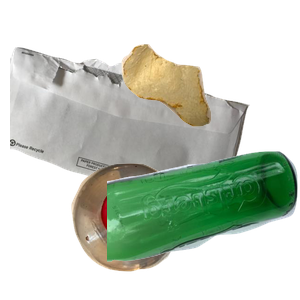glass: (107, 149, 300, 300)
paper: (10, 45, 250, 225)
plastic: (69, 161, 245, 300)
trash: (119, 42, 300, 161)
